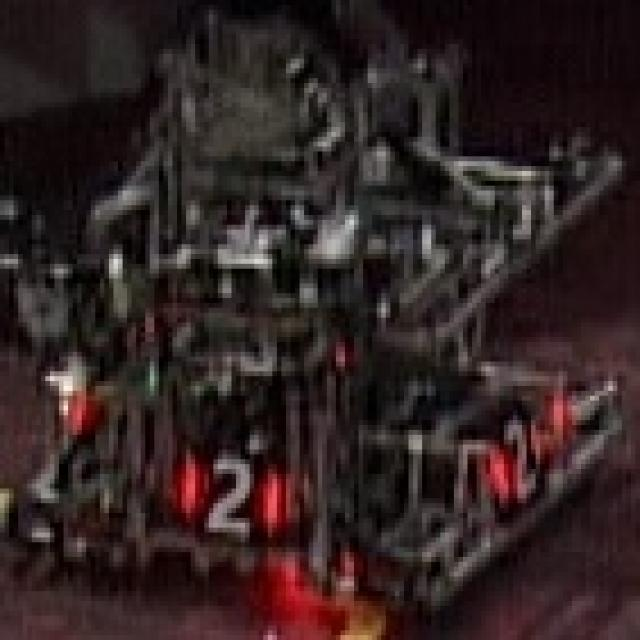R2: (177, 450, 281, 532), (486, 411, 544, 498)
